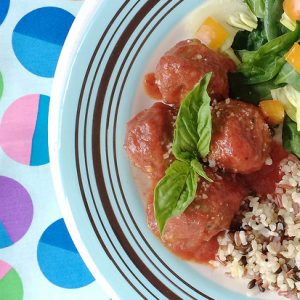chopped lettuce: (233, 9, 294, 102)
meatballs: (161, 182, 237, 247), (157, 40, 225, 104), (212, 100, 268, 173), (126, 109, 187, 172)
plain rice: (232, 173, 300, 283)
